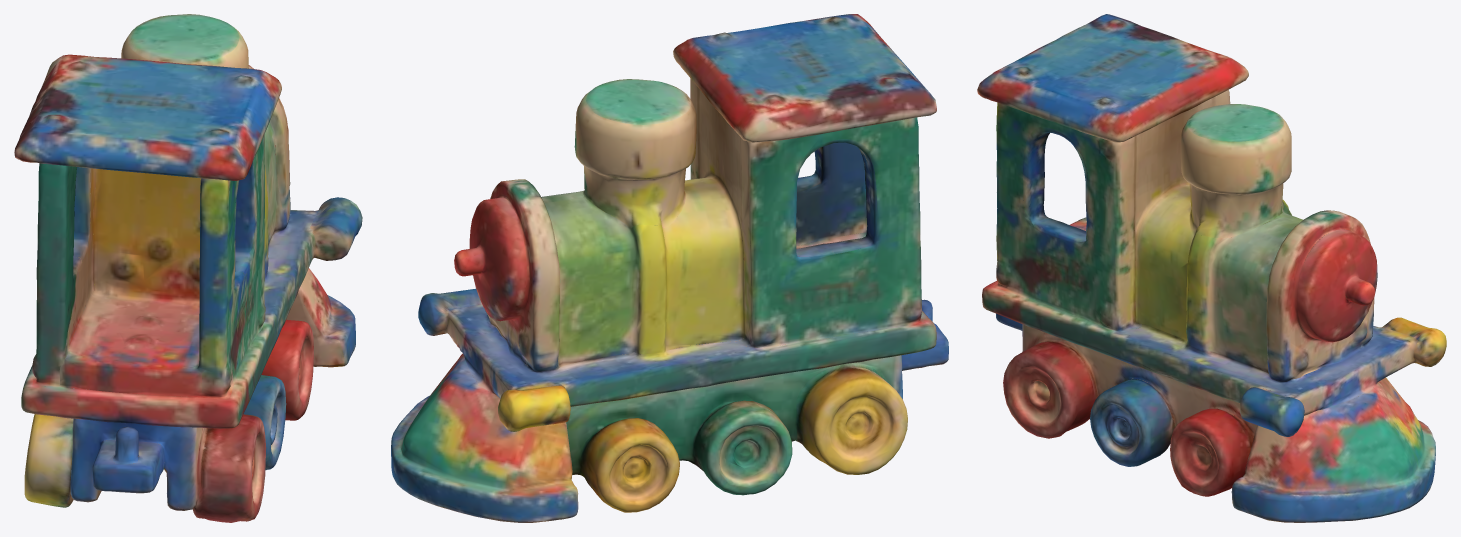
The model's file is toy-train.glb.
3 renders of one model, left to right at view 1: azimuth 30°, elevation 25°; view 2: azimuth 150°, elevation 25°; view 3: azimuth 270°, elevation 25°, orthographic. The views are drawn at different scales.
Parts seen in each view (by area): view 1: defaultMaterial; view 2: defaultMaterial; view 3: defaultMaterial.
Boxes of the visible parts, x1=… form: defaultMaterial: x1=14, y1=14, x2=362, y2=522; defaultMaterial: x1=391, y1=14, x2=948, y2=522; defaultMaterial: x1=977, y1=14, x2=1446, y2=522.
Size of the model in its own units: 0.2855 by 0.248 by 0.2999.
Materials: 1 (1 with a texture image).
